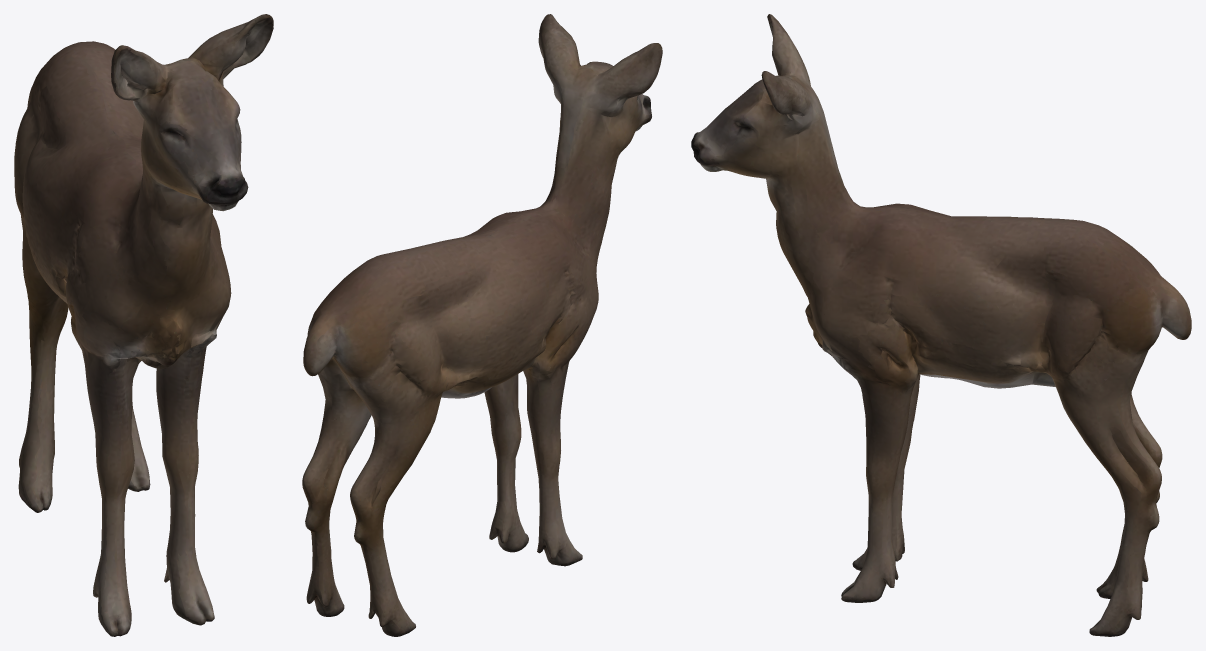
Rendered from roe-deer-v21-lod.glb.
3 renders of one model, left to right at view 1: azimuth 30°, elevation 25°; view 2: azimuth 150°, elevation 25°; view 3: azimuth 270°, elevation 25°, orthographic. The views are drawn at different scales.
Parts seen in each view (by area): view 1: world; view 2: world; view 3: world.
Boxes of the visible parts, x1=… form: world: x1=14, y1=14, x2=273, y2=636; world: x1=302, y1=14, x2=662, y2=636; world: x1=691, y1=14, x2=1191, y2=636.
Size of the model in its own units: 1.3 by 3.33 by 2.83.
Materials: 1 (1 with a texture image).
